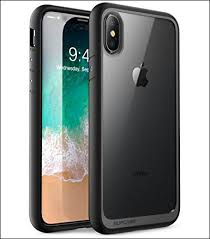iphone: (89, 1, 186, 235)
iphone10: (90, 2, 185, 235), (30, 1, 91, 230)
